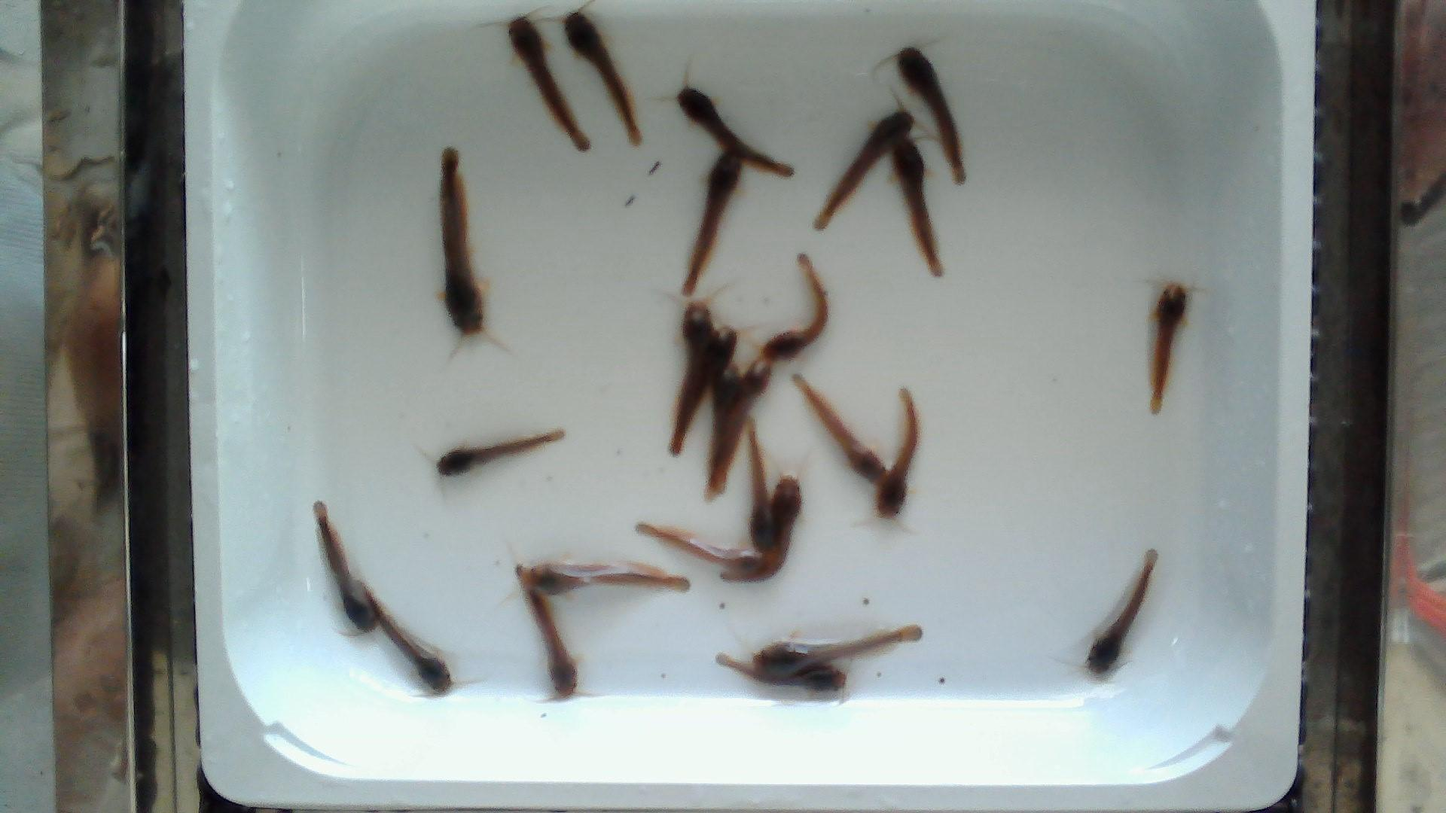lele: (813, 110, 912, 230), (792, 372, 890, 490), (508, 17, 590, 150), (677, 87, 794, 179), (564, 11, 641, 145), (897, 47, 966, 184), (313, 499, 380, 633), (753, 627, 920, 680), (1087, 550, 1157, 673), (683, 153, 743, 296), (721, 477, 802, 582), (439, 148, 484, 336), (674, 327, 738, 453), (375, 594, 453, 694), (714, 358, 772, 490), (761, 254, 828, 361), (519, 557, 691, 598), (893, 138, 942, 275), (524, 593, 579, 700), (438, 430, 564, 475), (643, 525, 762, 572), (877, 388, 919, 520), (715, 654, 846, 692), (1149, 284, 1187, 414), (676, 298, 712, 434), (744, 419, 776, 550), (710, 362, 741, 461)
